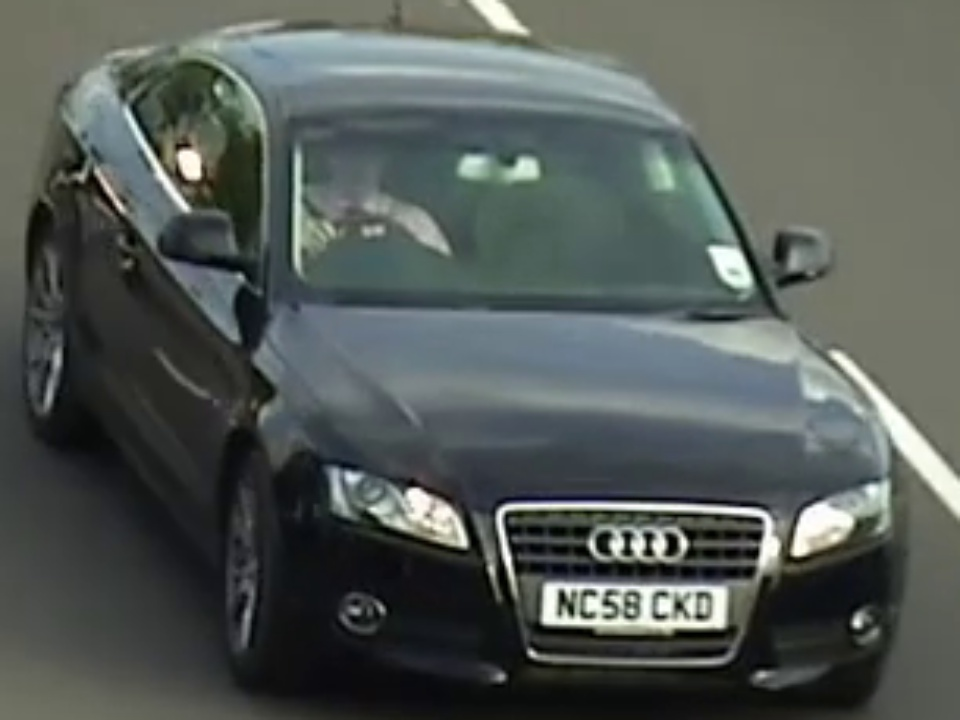ONE: (273, 119, 773, 314)
